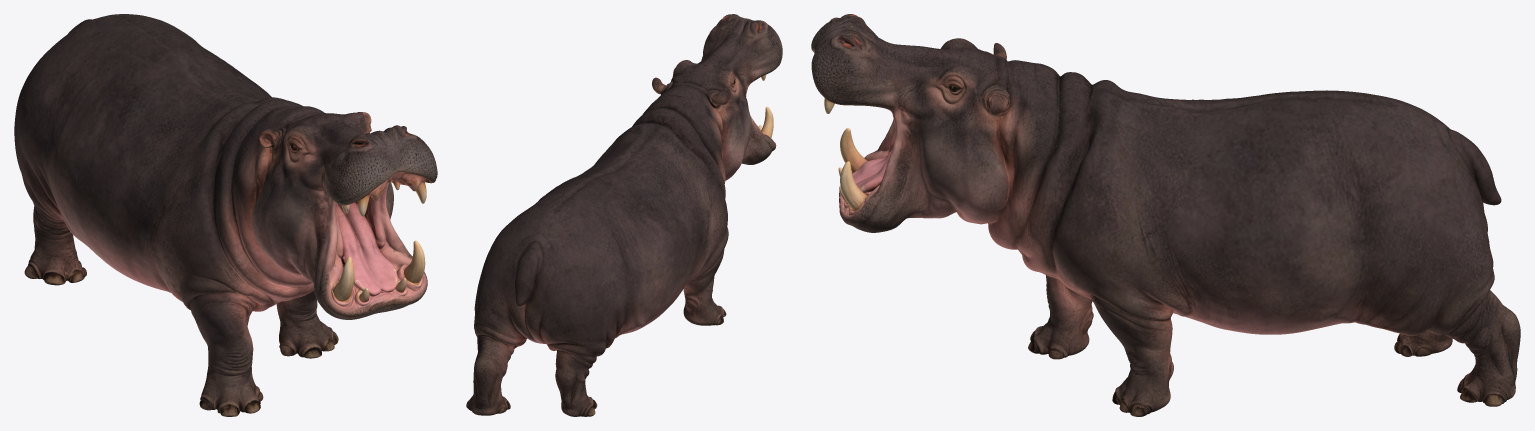
Rendered from hippo.glb.
The picture shows the model from 3 angles, left to right: view 1: azimuth 30°, elevation 25°; view 2: azimuth 150°, elevation 25°; view 3: azimuth 270°, elevation 25°; orthographic projection. The views are drawn at different scales.
Parts seen in each view (by area): view 1: hippo; view 2: hippo; view 3: hippo.
Part boxes in pixels (x1,y1,x2,y2): hippo: (14,14,437,416); hippo: (466,14,782,416); hippo: (811,14,1520,416).
Size of the model in its own units: 1.41 by 2.15 by 4.
Materials: 1 (1 with a texture image).
